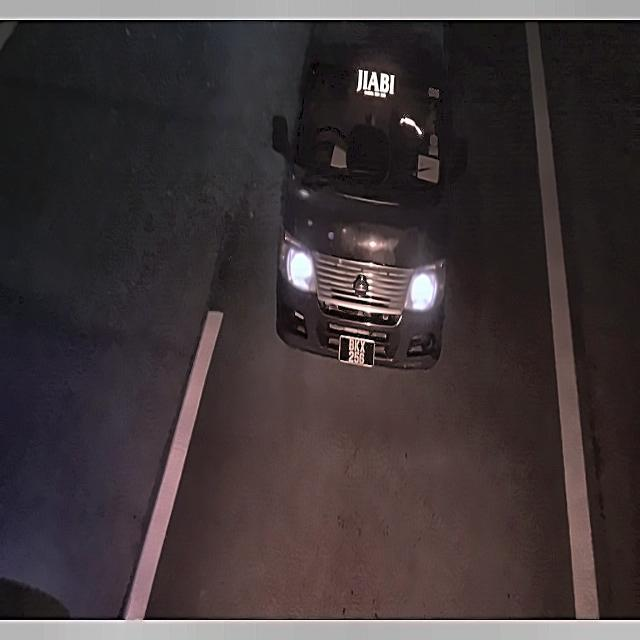car: (336, 331, 378, 370)
